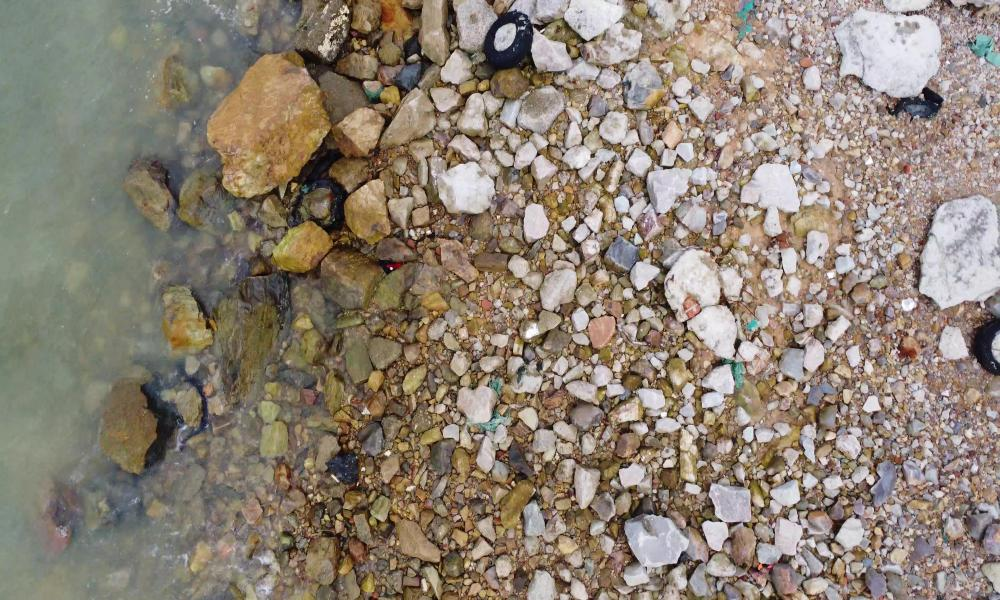tire: (480, 4, 537, 72), (286, 168, 342, 235), (891, 80, 946, 132), (974, 312, 1000, 378)
